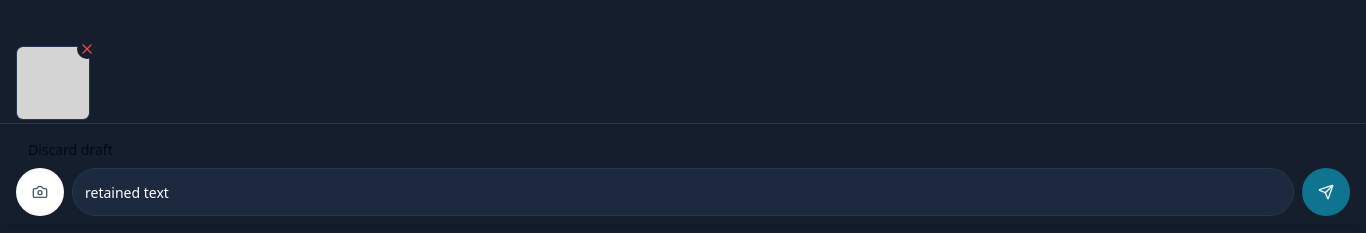
it: actual message composer and image controls › keeps text after upload failure and exposes a useful file error without throwing
The width and height of the screenshot is (1366, 233).
Earlier steps of the test are not shown.
Later steps or results of the test are not shown.
Click the button named "Send message" at (1326, 192), box 1302,168 -> 1350,216
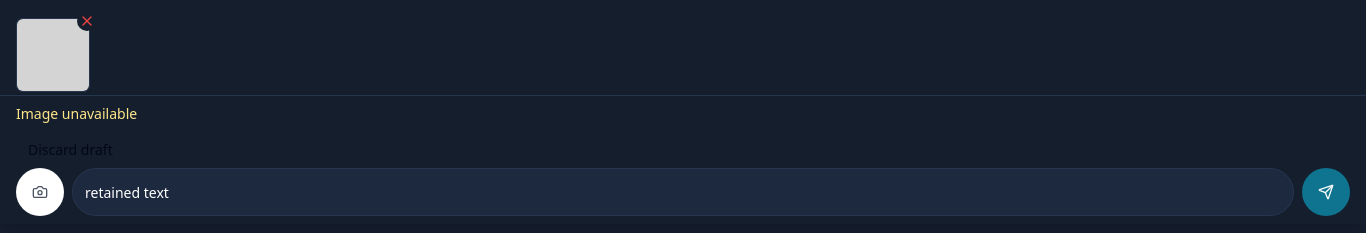
Expected: the field named "message" holds "retained text", 72,168 -> 1294,216
Now the text "Image unavailable" is shown, box 16,104 -> 137,123
